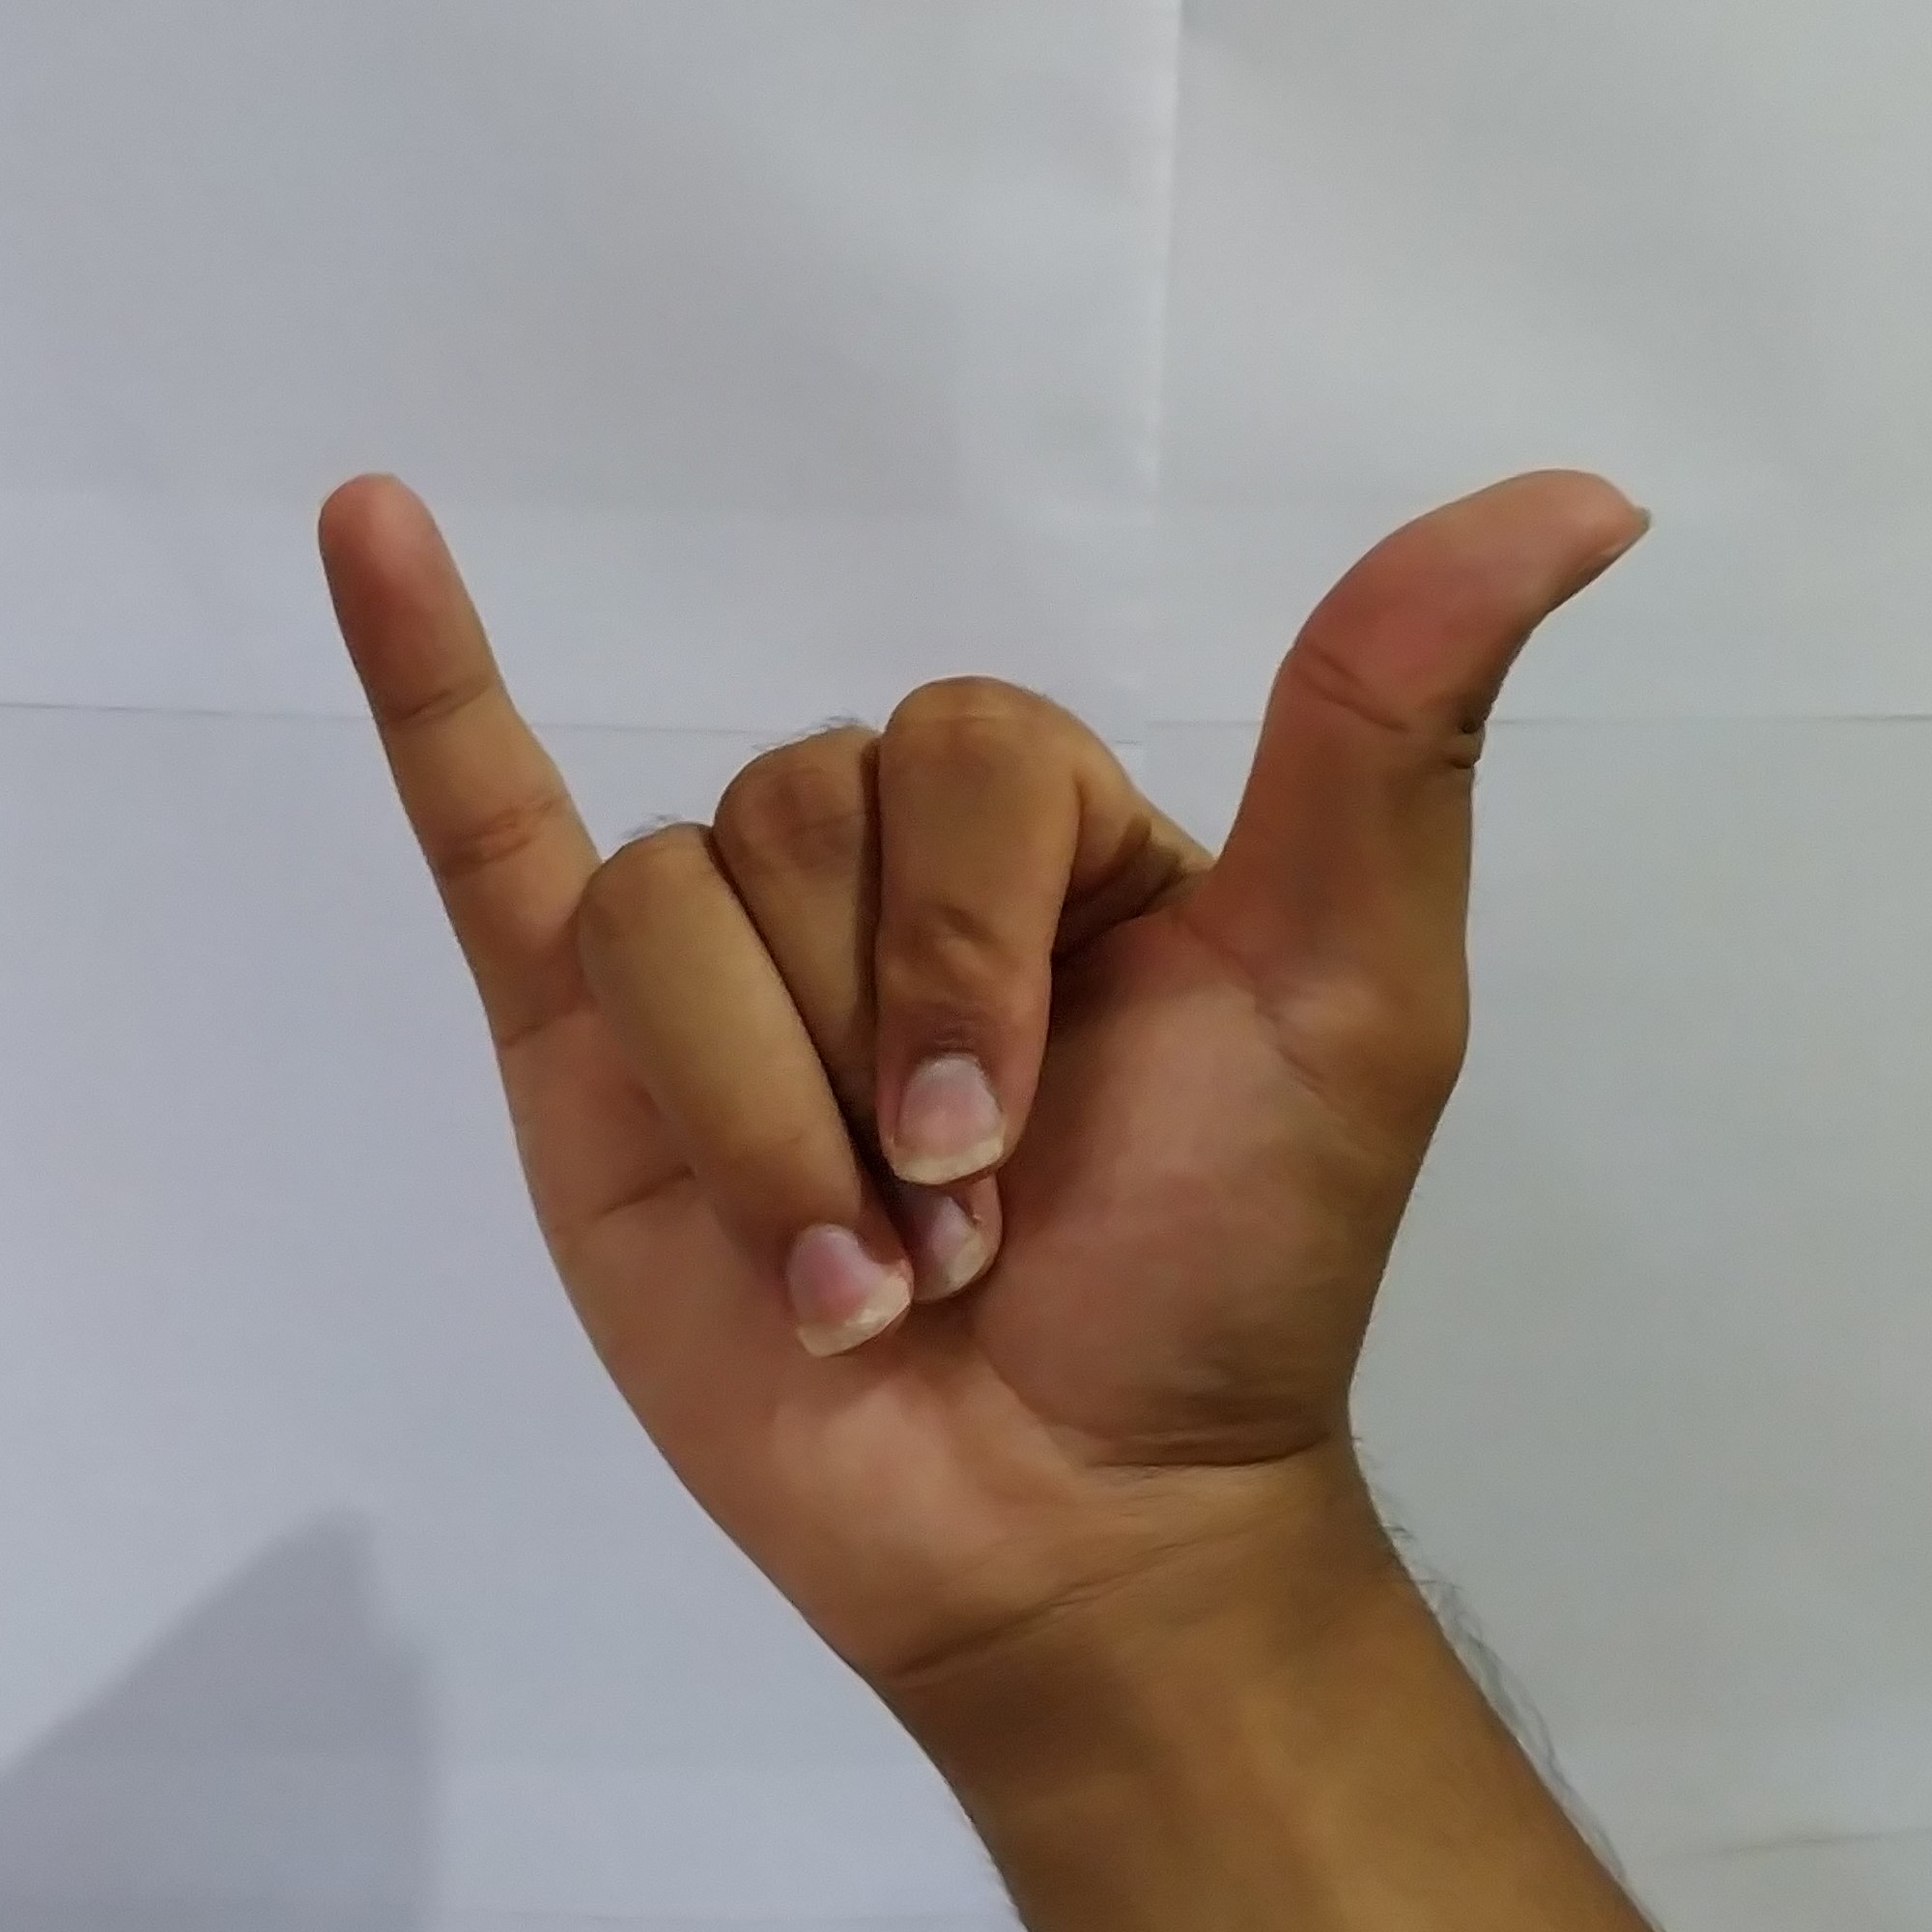Y: (281, 425, 1691, 1668)
